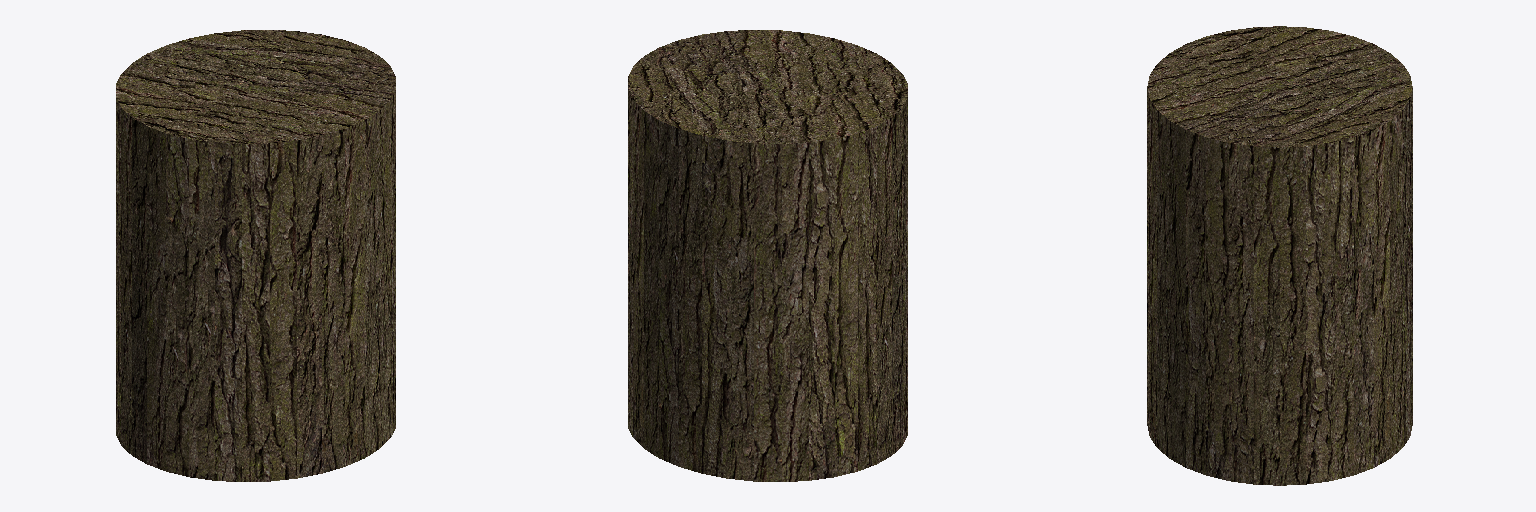
3 renders of one model, left to right at view 1: azimuth 30°, elevation 25°; view 2: azimuth 150°, elevation 25°; view 3: azimuth 270°, elevation 25°, orthographic.
Parts seen in each view (by area): view 1: Cylinder_Cylinder.006; view 2: Cylinder_Cylinder.006; view 3: Cylinder_Cylinder.006.
Part boxes in pixels (left/top/right/bottom): Cylinder_Cylinder.006: left=116, top=30, right=395, bottom=481; Cylinder_Cylinder.006: left=628, top=30, right=907, bottom=481; Cylinder_Cylinder.006: left=1147, top=26, right=1412, bottom=485.
Bounding box in the file's own units: 0.8384 × 1.09 × 0.7745.
1 materials, 1 textured.